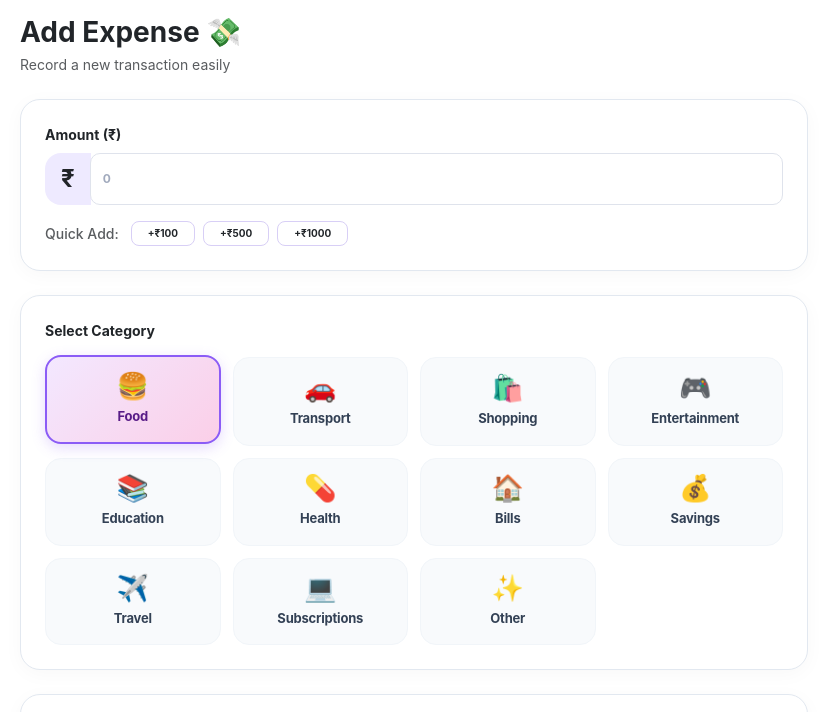
Test: CashMate Add Expense Page › enables Save Expense after a valid amount is entered
Type "100" into the number field with placeholder "0" at (436,179), box [90,153,783,205]
(page scrolled)
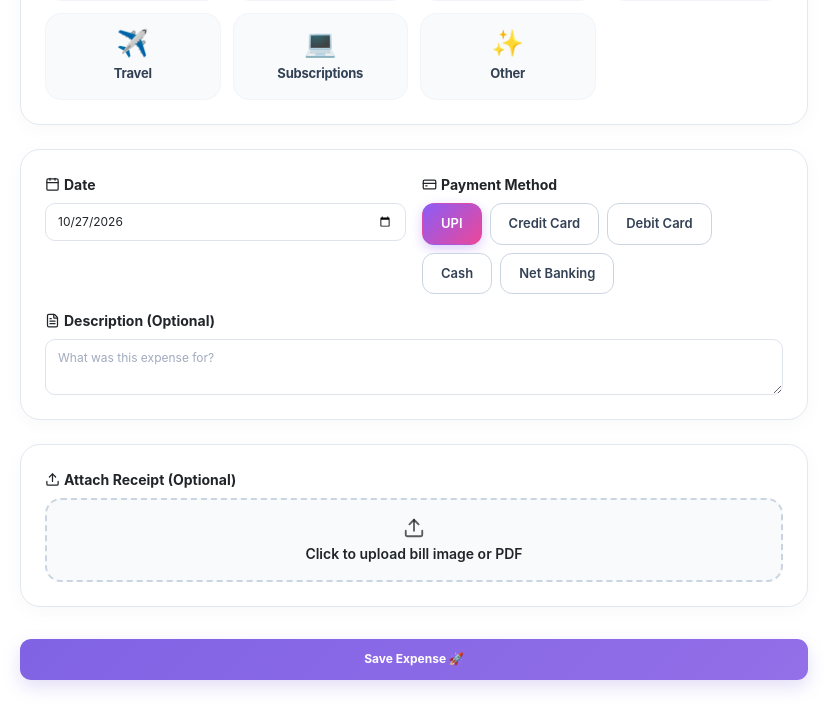
Check: the button "Save Expense 🚀" is enabled, box [20,639,808,680]
